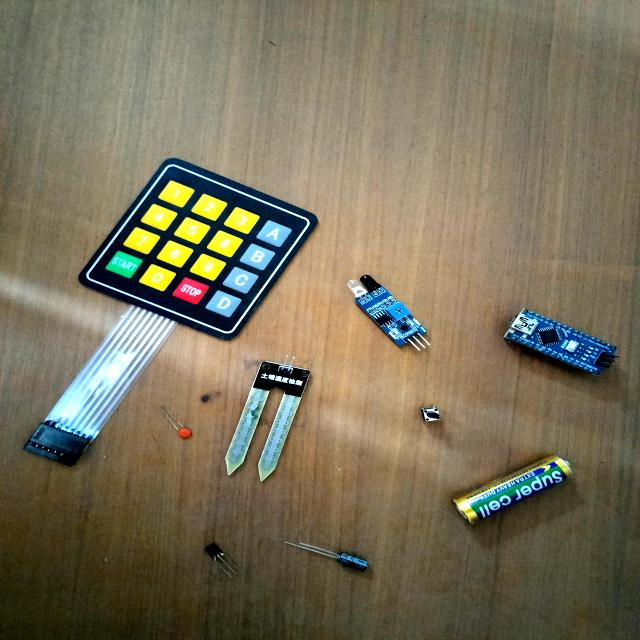capacitor: (301, 543, 368, 572), (179, 427, 192, 440)
